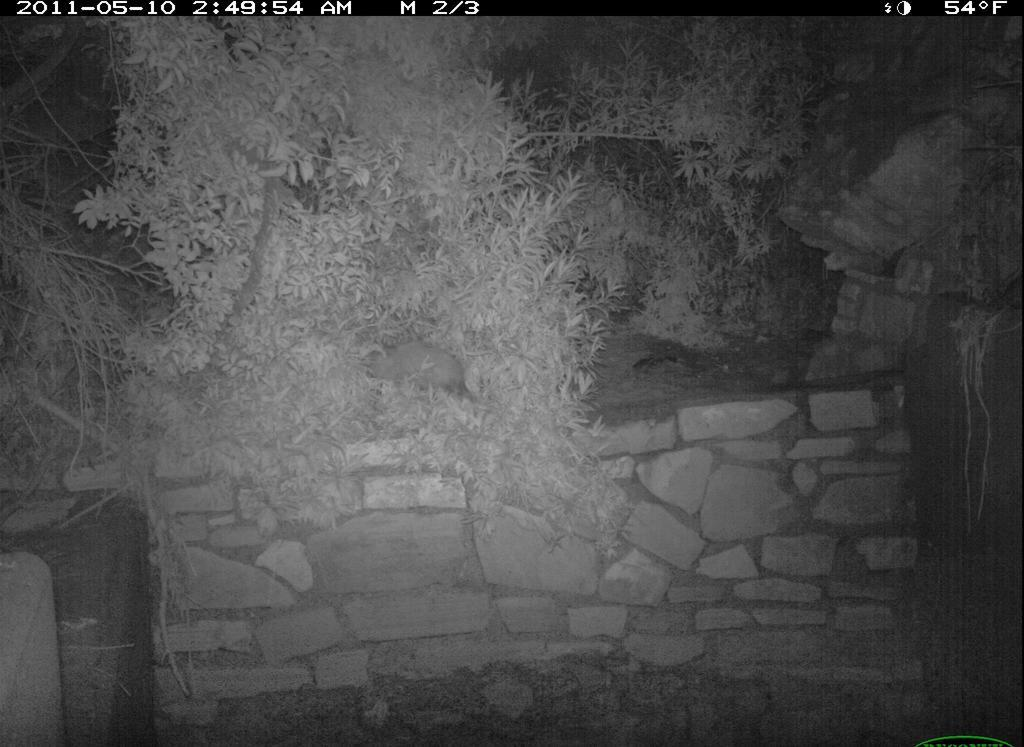opossum: (349, 333, 489, 417)
